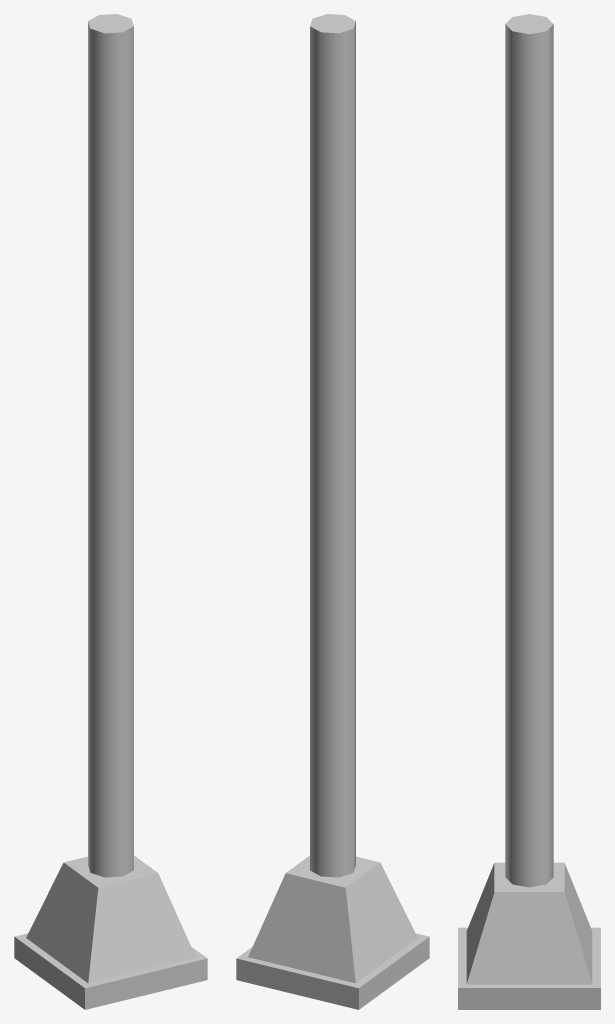
File: CatwalkSupport.fbx
The picture shows the model from 3 angles, left to right: view 1: azimuth 30°, elevation 25°; view 2: azimuth 150°, elevation 25°; view 3: azimuth 270°, elevation 25°; orthographic projection.
Visible parts, largest first — view 1: Cylinder, Cube; view 2: Cylinder, Cube; view 3: Cylinder, Cube.
Boxes of the visible parts, left/top/right/bottom form: Cylinder: left=88, top=14, right=133, bottom=877; Cube: left=14, top=855, right=207, bottom=1009; Cylinder: left=310, top=14, right=355, bottom=877; Cube: left=236, top=855, right=429, bottom=1009; Cylinder: left=505, top=14, right=553, bottom=887; Cube: left=458, top=862, right=600, bottom=1009.
Size of the model in its own units: 79.29 by 585 by 79.29.
